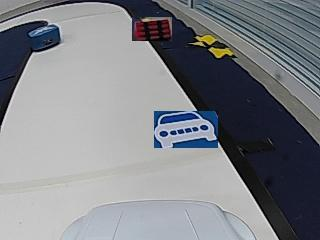prop: (29, 24, 60, 52)
